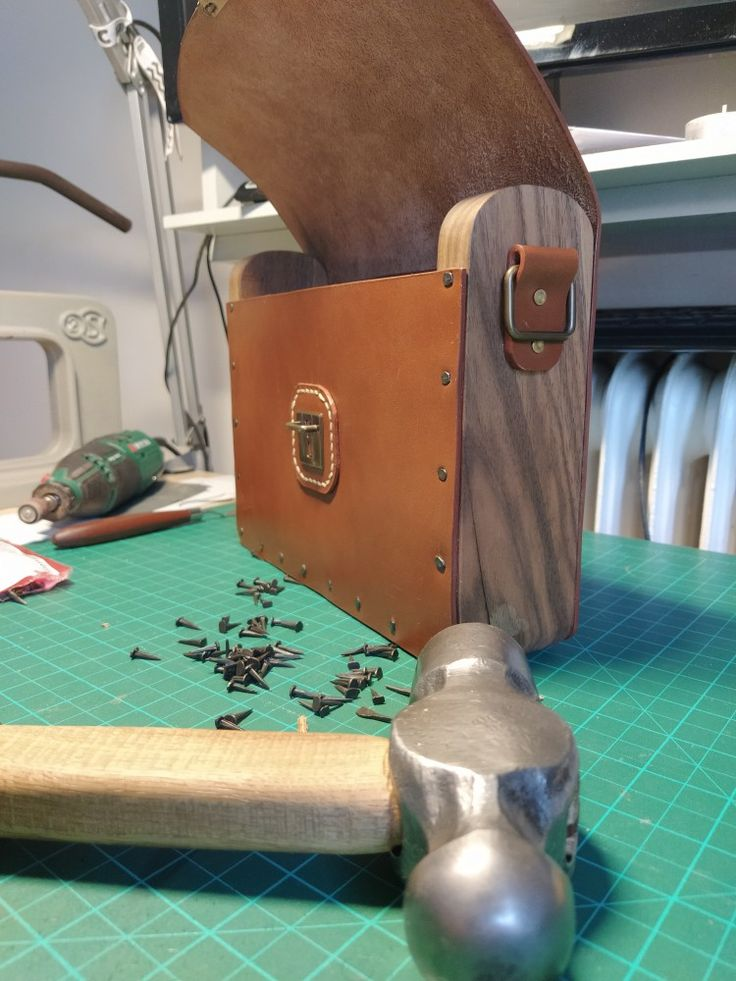cuero: (225, 244, 579, 656)
